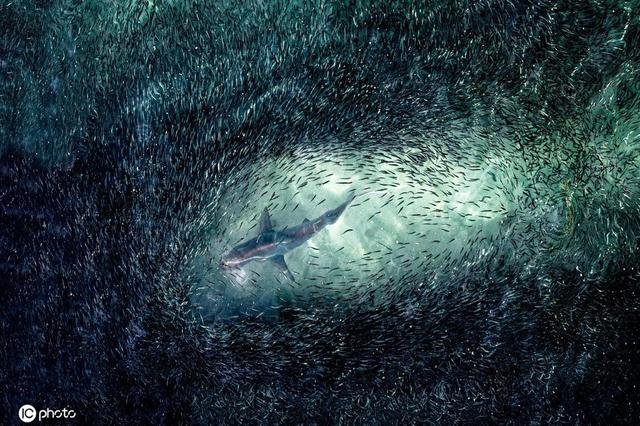shark: (209, 194, 358, 286)
